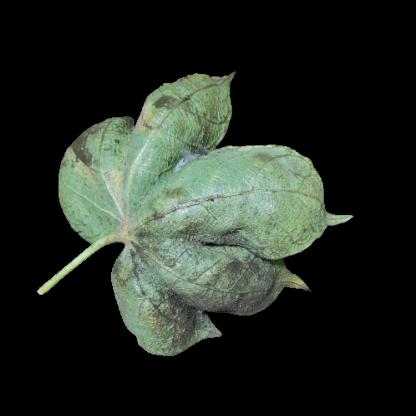curl_stage2: (72, 167, 130, 229), (199, 162, 281, 201), (126, 133, 175, 192), (263, 199, 314, 252), (277, 163, 317, 199)
sooty: (137, 257, 263, 327), (127, 191, 180, 257), (176, 114, 223, 166), (71, 118, 117, 169), (171, 219, 222, 263), (143, 91, 190, 127), (223, 225, 256, 261), (151, 326, 187, 357), (114, 259, 138, 301), (114, 258, 133, 307)
